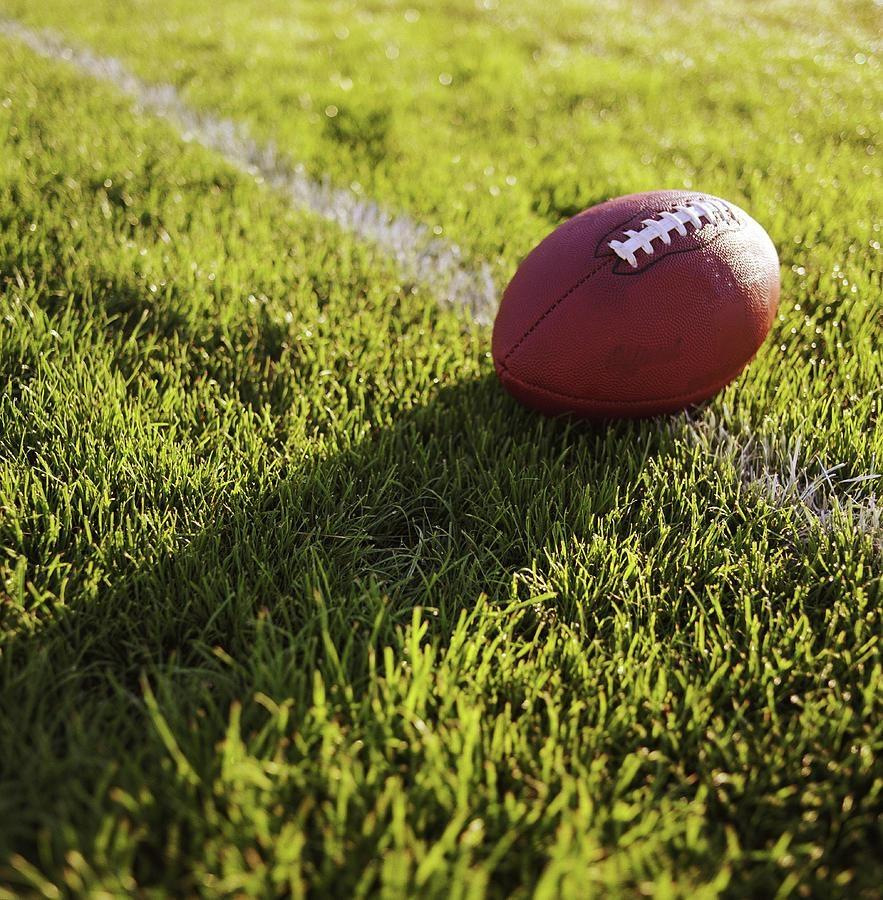Sports-Ball: (492, 190, 779, 418)
